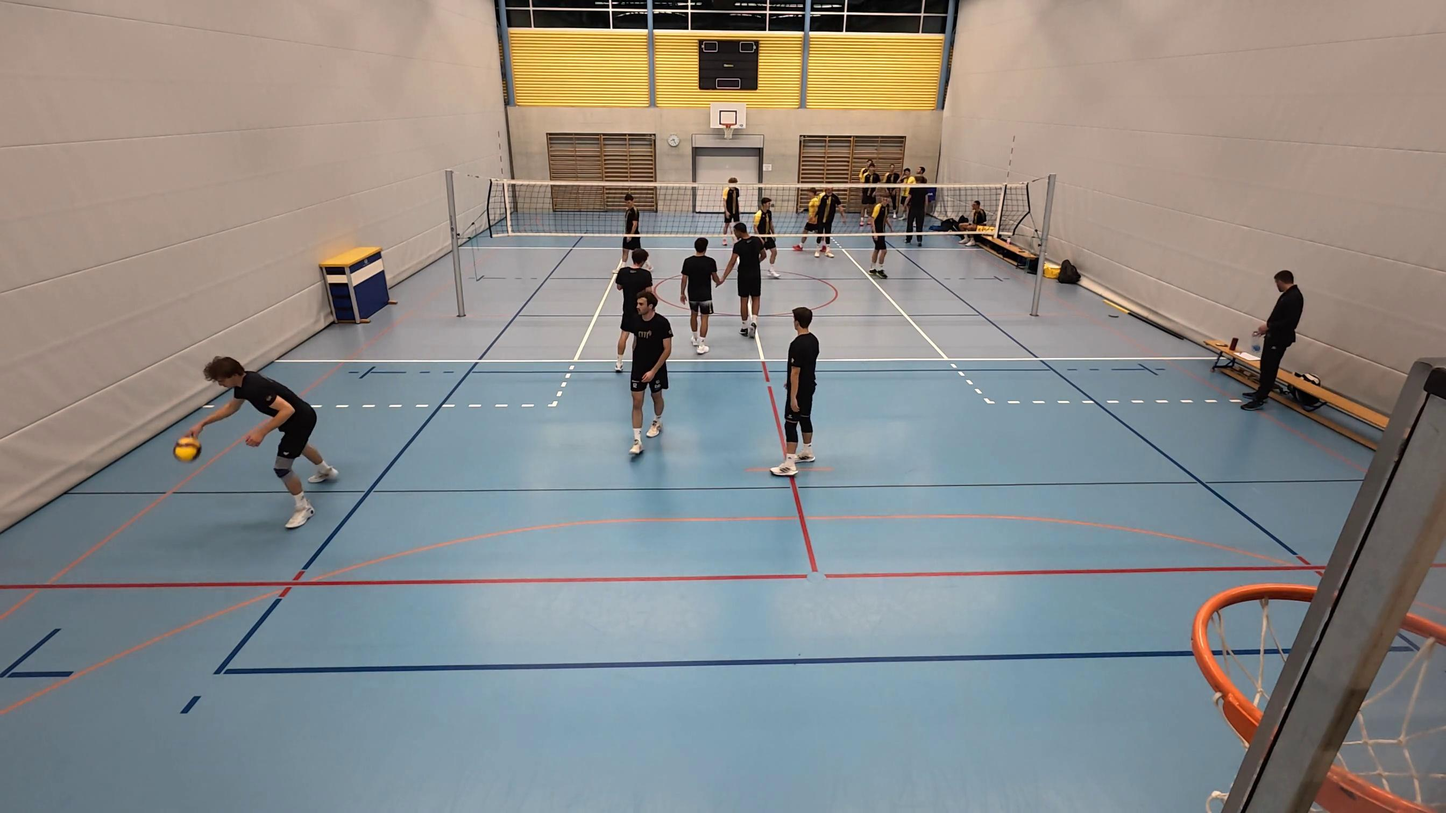Player: (186, 354, 339, 531), (770, 308, 818, 477), (628, 288, 672, 455), (719, 218, 772, 338), (612, 247, 657, 372), (677, 236, 721, 356), (812, 181, 849, 259), (794, 182, 826, 259), (754, 196, 783, 279), (867, 191, 891, 280), (618, 192, 644, 269), (719, 176, 744, 244)
ball: (174, 438, 200, 461)
